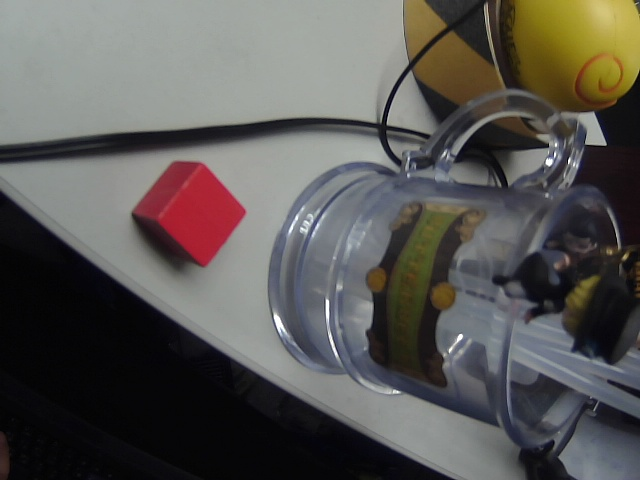redbox: (127, 148, 251, 273)
